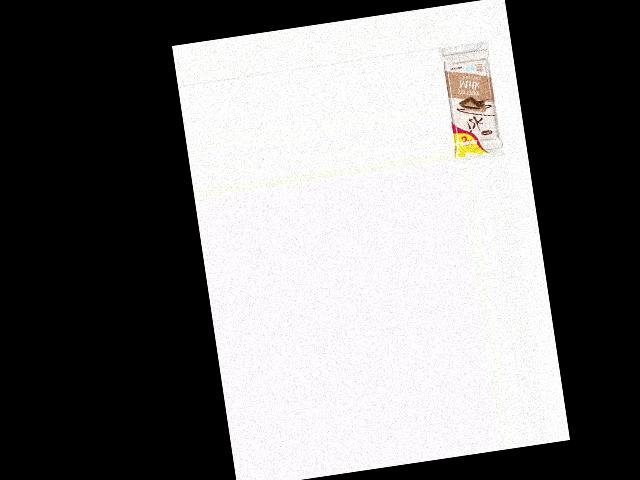chocolate: (439, 51, 506, 162)
